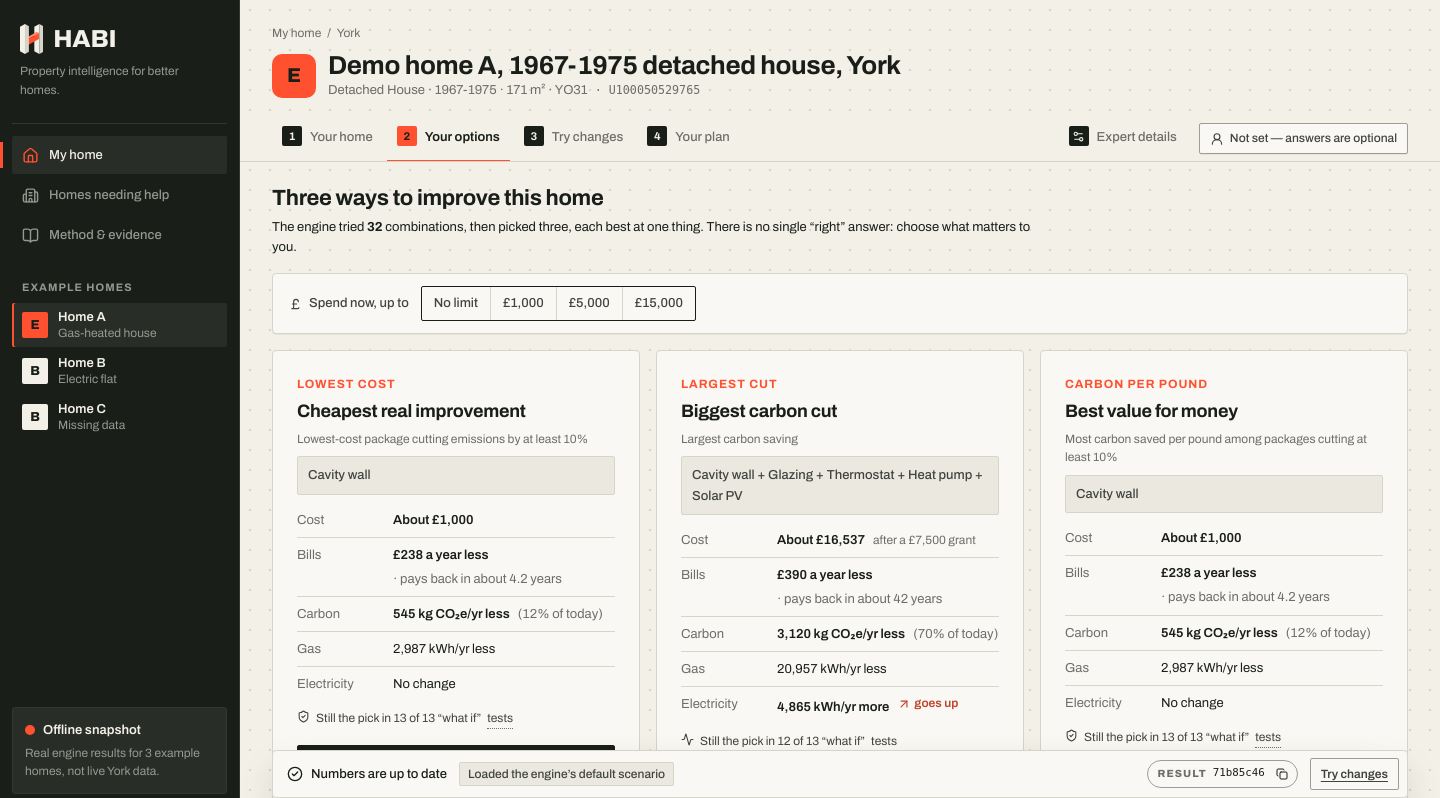
a simpler first view › the situation chip still opens the questions on any step
This screenshot has width=1440, height=798.
Expected: the element named "Steps" is shown, [272,113,1187,161]
Expected: the heading "How are you connected to this home?" is not shown
Click the button named "Edit your situation" at (1303, 139), box [1199,123,1408,154]
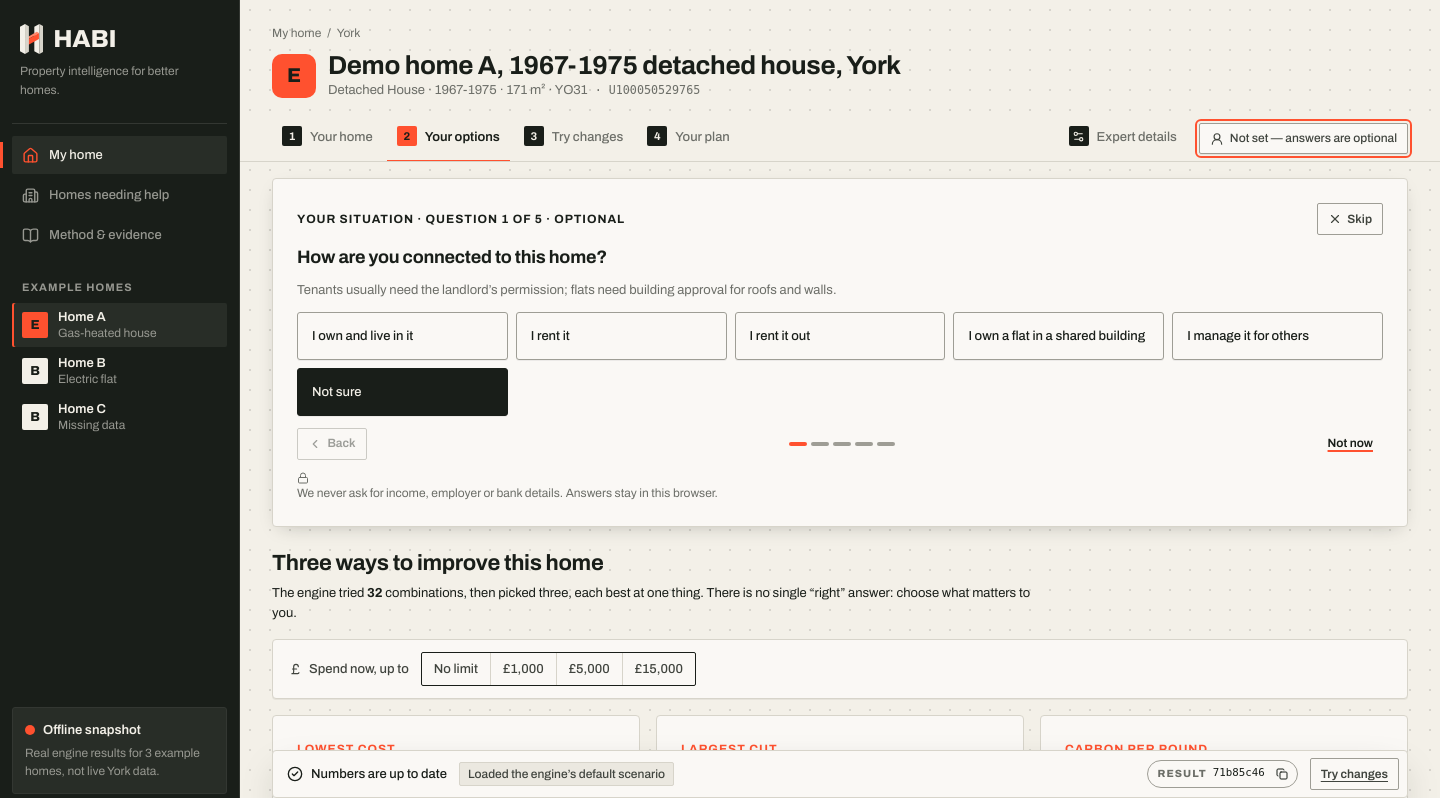
Result: the heading "How are you connected to this home?" is shown at [297,247,607,267]
